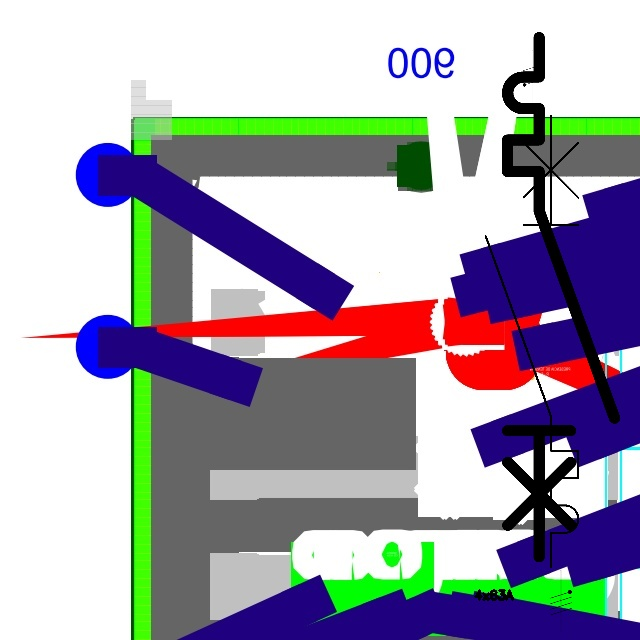interruptor_termomagnetico: (494, 24, 628, 570), (474, 103, 590, 579)
